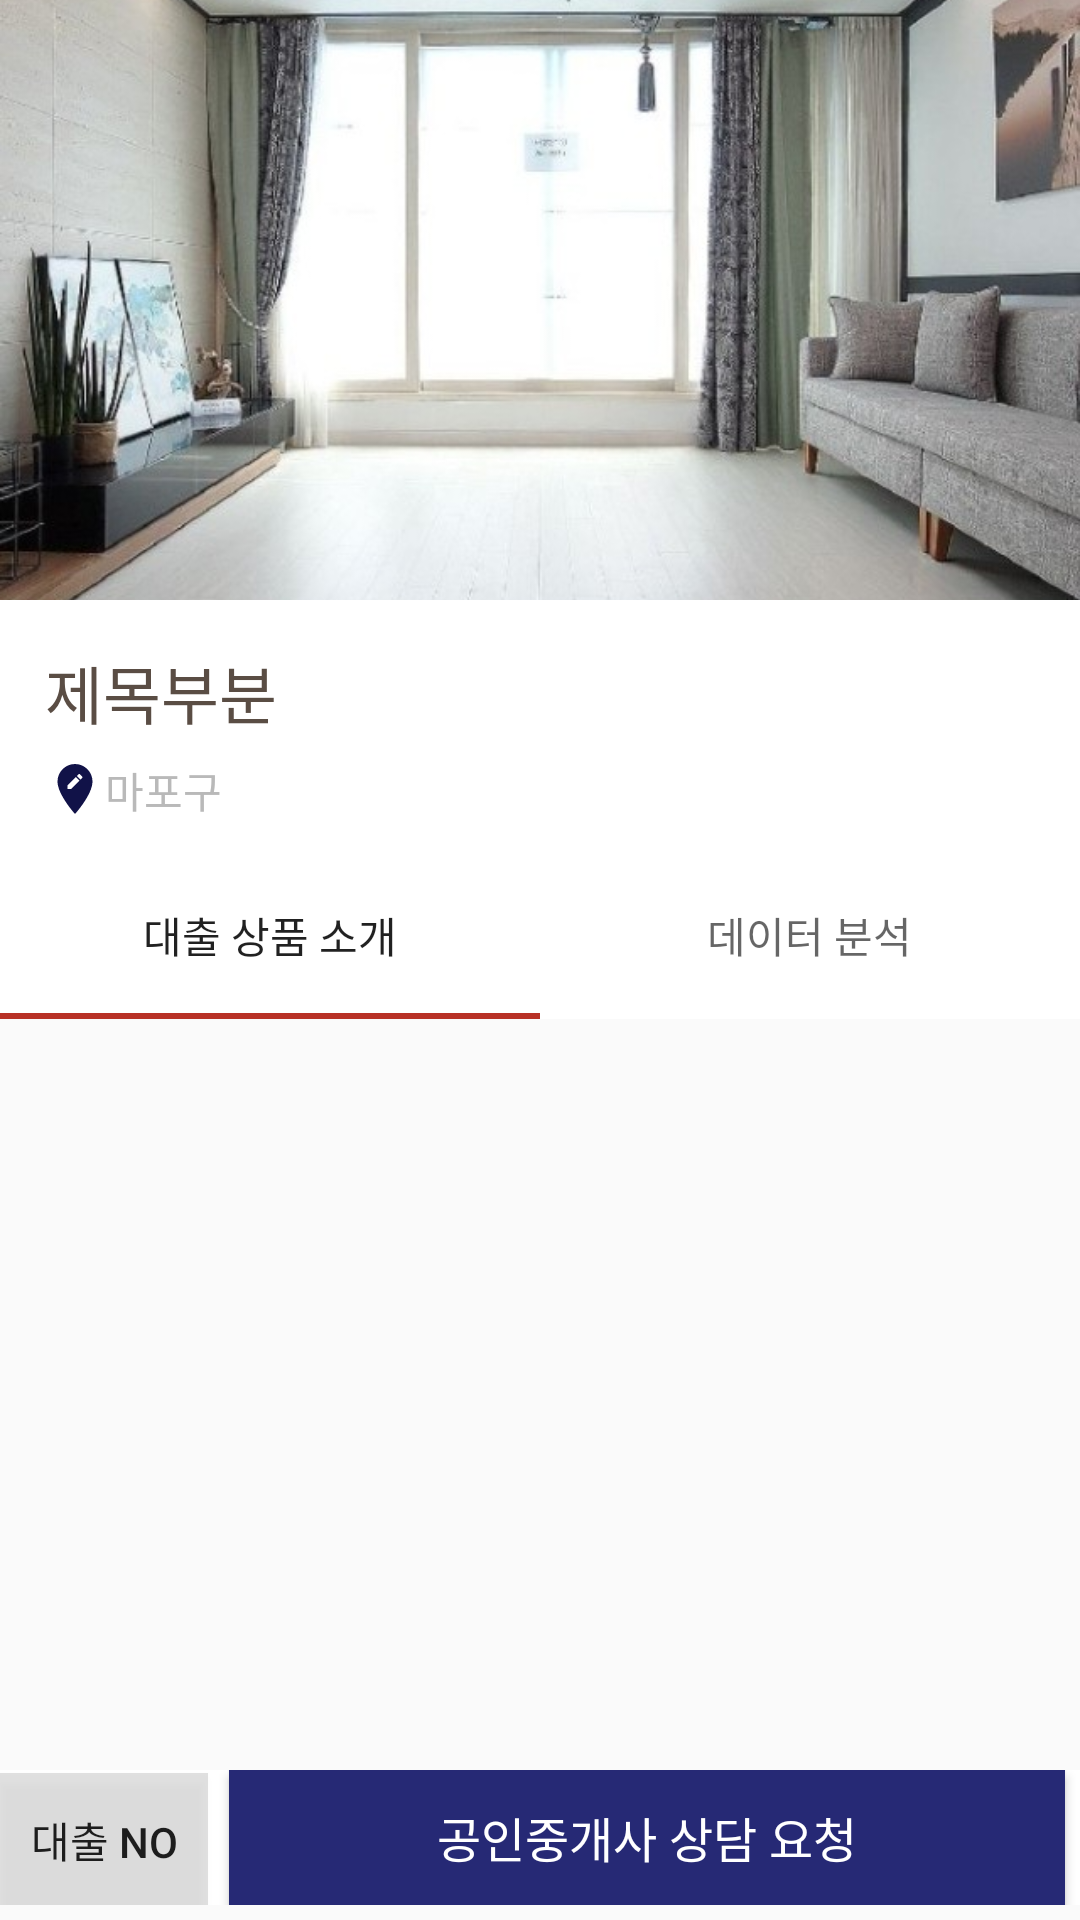

Named icons in this screenshot (1080 x 1920) and their centers, [x,y]:
edit location: [75,789]
